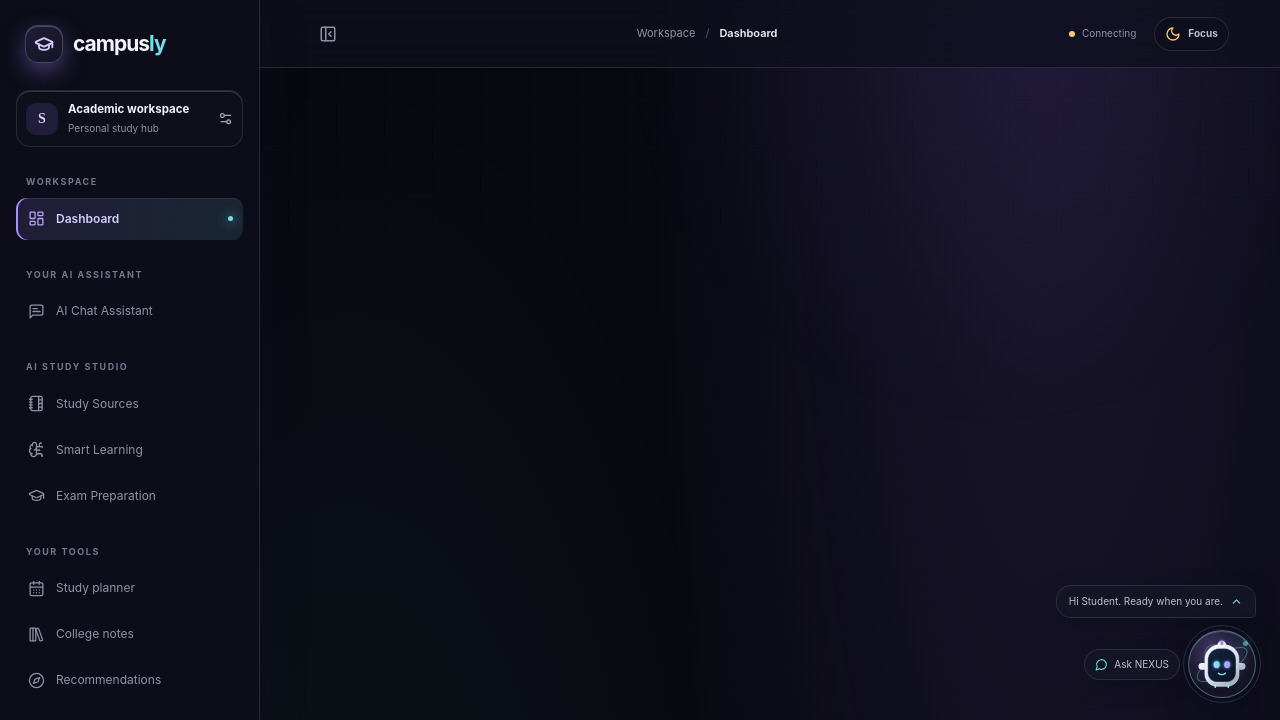
Test case: application navigation and dashboard › exposes the three AI Study Studio areas without removing the existing assistant route
Click the link "Study Sources" at {"x": 83, "y": 404}, box [28, 395, 139, 412]
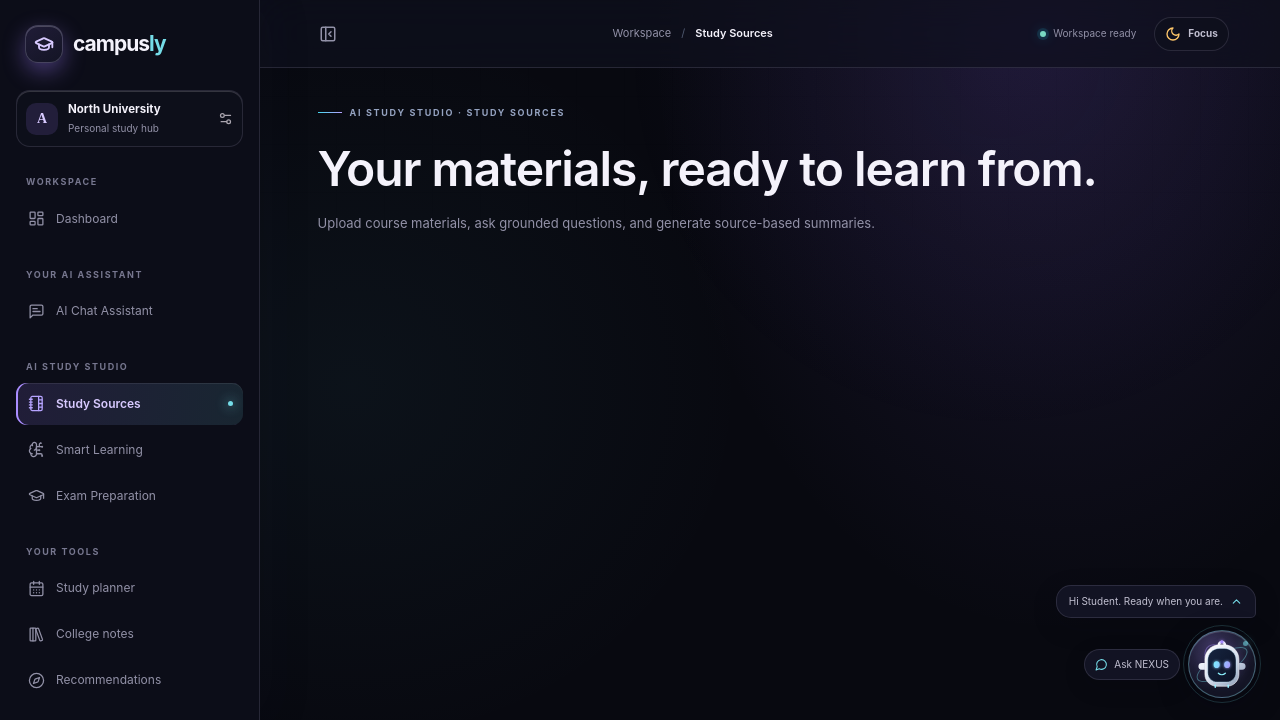
Expected: the heading "Your materials, ready to learn from." is shown, [318, 132, 1222, 204]
Click the link "Smart Learning" at {"x": 85, "y": 450}, box [28, 441, 143, 458]
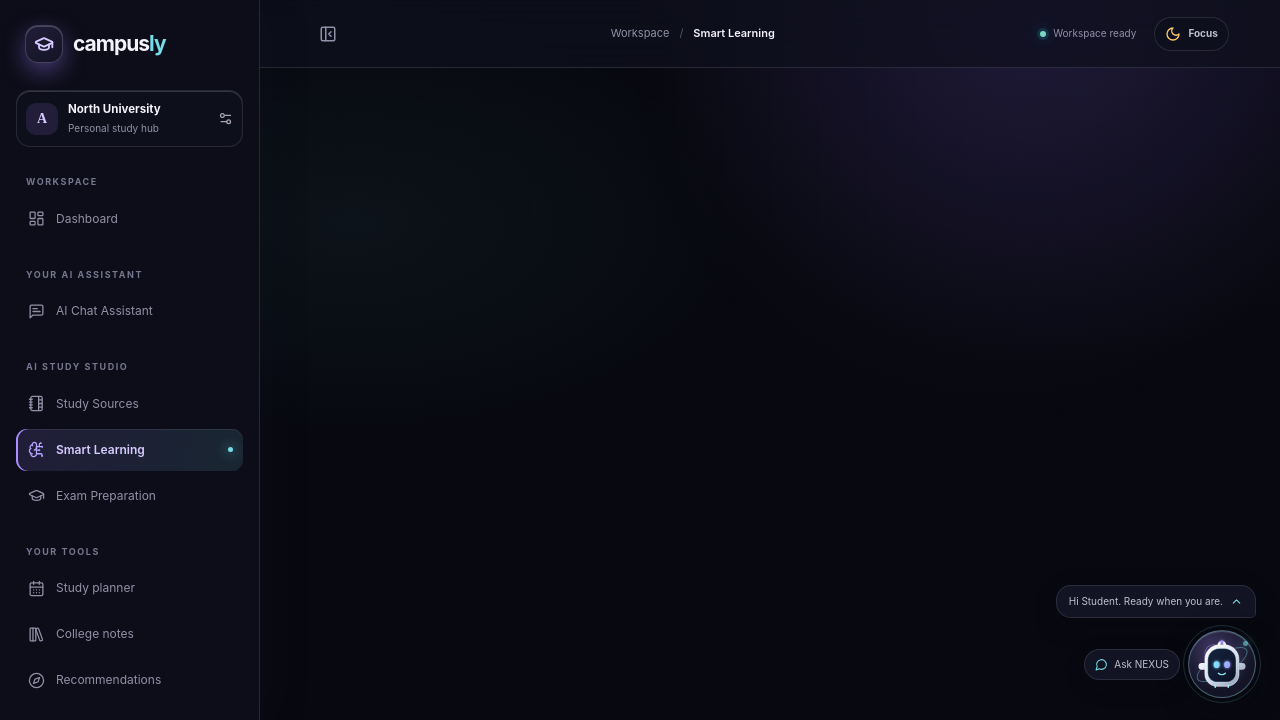
Click the link "Exam Preparation" at {"x": 92, "y": 496}, box [28, 487, 156, 504]
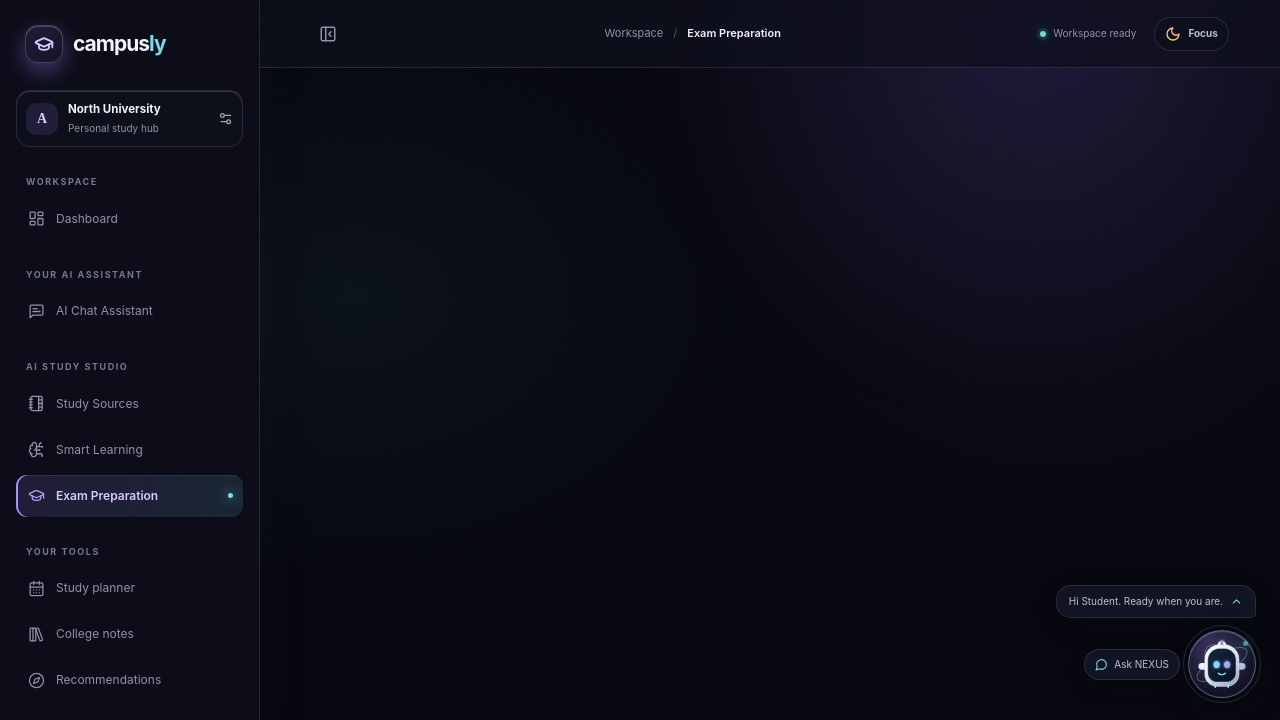
Click the link "AI Chat Assistant" at {"x": 90, "y": 311}, box [28, 303, 153, 320]
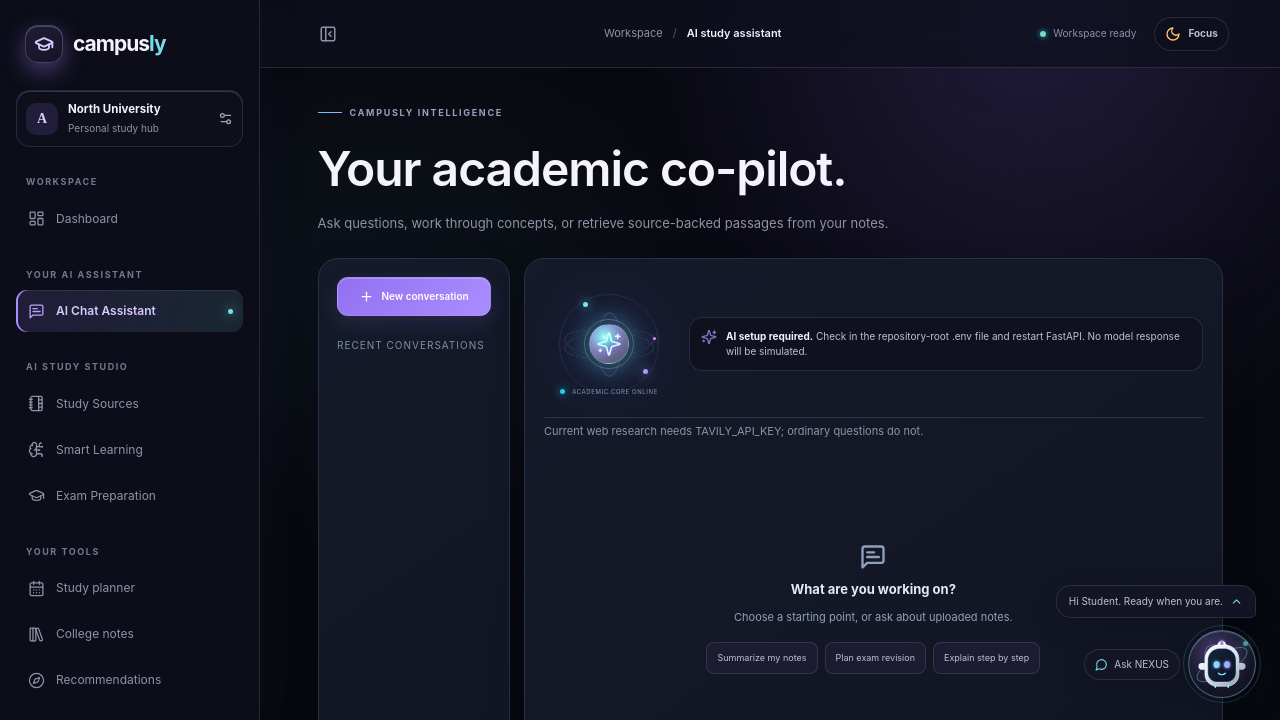
Expected: the heading "Your academic co-pilot." is shown, [318, 138, 846, 198]
